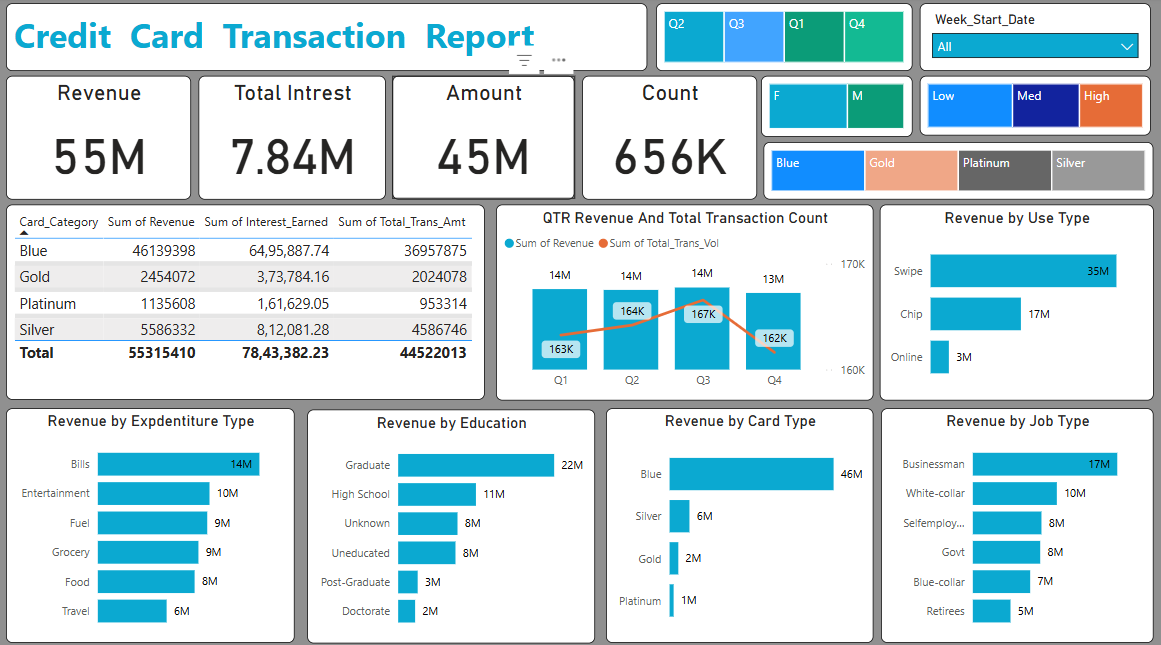

Layout of this report page (visuals, bound fields, positions):
{"tool":"powerbi","page":{"name":"CC Transaction ","canvas":[1280,720],"ordinal":0},"visuals":[{"type":"textbox","box":[11,6.9,703.9,74.1],"z":0},{"type":"lineStackedColumnComboChart","title":"QTR Revenue And Total Transaction Count","fields":{"Category":["credit_card.Qtr"],"Y":["Sum(credit_card.Revenue)"],"Y2":["Sum(credit_card.Total_Trans_Vol)"]},"box":[548.9,227.8,414.4,215.4],"z":1000},{"type":"barChart","title":"Revenue by Expdentiture Type","fields":{"Category":["credit_card.Exp Type"],"Y":["Sum(credit_card.Revenue)"]},"box":[11,451.5,317,258],"z":2000},{"type":"barChart","title":"Revenue by Education","fields":{"Category":["customer.Education_Level"],"Y":["Sum(credit_card.Revenue)"]},"box":[341.7,452.8,315.6,256.6],"z":3000},{"type":"barChart","title":"Revenue by Job Type","fields":{"Category":["customer.Customer_Job"],"Y":["Sum(credit_card.Revenue)"]},"box":[971.5,451.5,299.1,258],"z":4000},{"type":"barChart","title":"Revenue by Card Type","fields":{"Category":["credit_card.Card_Category"],"Y":["Sum(credit_card.Revenue)"]},"box":[669.6,451.5,293.7,258],"z":5000},{"type":"barChart","title":"Revenue by Use Type","fields":{"Category":["credit_card.Use Chip"],"Y":["Sum(credit_card.Revenue)"]},"box":[970.2,227.8,300.5,215.4],"z":6000},{"type":"tableEx","fields":{"Values":["credit_card.Card_Category","Sum(credit_card.Revenue)","Sum(credit_card.Interest_Earned)","Sum(credit_card.Total_Trans_Amt)"]},"box":[11,227.8,525.6,214.1],"z":7000},{"type":"card","title":"Revenue","fields":{"Values":["Sum(credit_card.Revenue)"]},"box":[11,86.4,203.1,135.8],"z":8000},{"type":"card","title":"Total Intrest","fields":{"Values":["Sum(credit_card.Interest_Earned)"]},"box":[222.3,86.4,205.8,135.8],"z":9000},{"type":"card","title":"Amount","fields":{"Values":["Sum(credit_card.Total_Trans_Amt)"]},"box":[435,86.4,200.3,135.8],"z":10000},{"type":"card","title":"Count","fields":{"Values":["Sum(credit_card.Total_Trans_Vol)"]},"box":[643.6,86.4,192.1,135.8],"z":11000},{"type":"slicer","fields":{"Values":["credit_card.Week_Start_Date"]},"box":[1014.1,6.9,253.9,74.1],"z":12000},{"type":"treemap","fields":{"Group":["credit_card.Qtr"],"Values":["CountNonNull(credit_card.Client_Num)"]},"box":[724.5,6.9,281.3,74.1],"z":13000},{"type":"treemap","fields":{"Values":["CountNonNull(credit_card.Client_Num)"],"Group":["customer.Gender"]},"box":[839.8,86.4,166,67.2],"z":14000},{"type":"treemap","fields":{"Group":["credit_card.Card_Category"],"Values":["credit_card.CurrentRev"]},"box":[842.5,159.2,428.1,63.1],"z":15000},{"type":"treemap","fields":{"Values":["CountNonNull(credit_card.Client_Num)"],"Group":["customer.IncomeGrp","customer.Gender"]},"box":[1014.1,86.4,253.9,65.9],"z":16000}]}

Visuals, with their boxes in screenshot pixels (x1, y1, x2, y2), scaled from the page's 1280x720 canvas onto the 1161x645 screenshot:
textbox: BBox(10, 6, 648, 73)
"QTR Revenue And Total Transaction Count" lineStackedColumnComboChart: BBox(498, 204, 874, 397)
"Revenue by Expdentiture Type" barChart: BBox(10, 404, 298, 636)
"Revenue by Education" barChart: BBox(310, 406, 596, 636)
"Revenue by Job Type" barChart: BBox(881, 404, 1152, 636)
"Revenue by Card Type" barChart: BBox(607, 404, 874, 636)
"Revenue by Use Type" barChart: BBox(880, 204, 1153, 397)
tableEx - credit_card.Card_Category x Sum(credit_card.Revenue): BBox(10, 204, 487, 396)
"Revenue" card: BBox(10, 77, 194, 199)
"Total Intrest" card: BBox(202, 77, 388, 199)
"Amount" card: BBox(395, 77, 576, 199)
"Count" card: BBox(584, 77, 758, 199)
slicer - credit_card.Week_Start_Date: BBox(920, 6, 1150, 73)
treemap - credit_card.Qtr x CountNonNull(credit_card.Client_Num): BBox(657, 6, 912, 73)
treemap - CountNonNull(credit_card.Client_Num) x customer.Gender: BBox(762, 77, 912, 138)
treemap - credit_card.Card_Category x credit_card.CurrentRev: BBox(764, 143, 1152, 199)
treemap - CountNonNull(credit_card.Client_Num) x customer.IncomeGrp: BBox(920, 77, 1150, 136)
